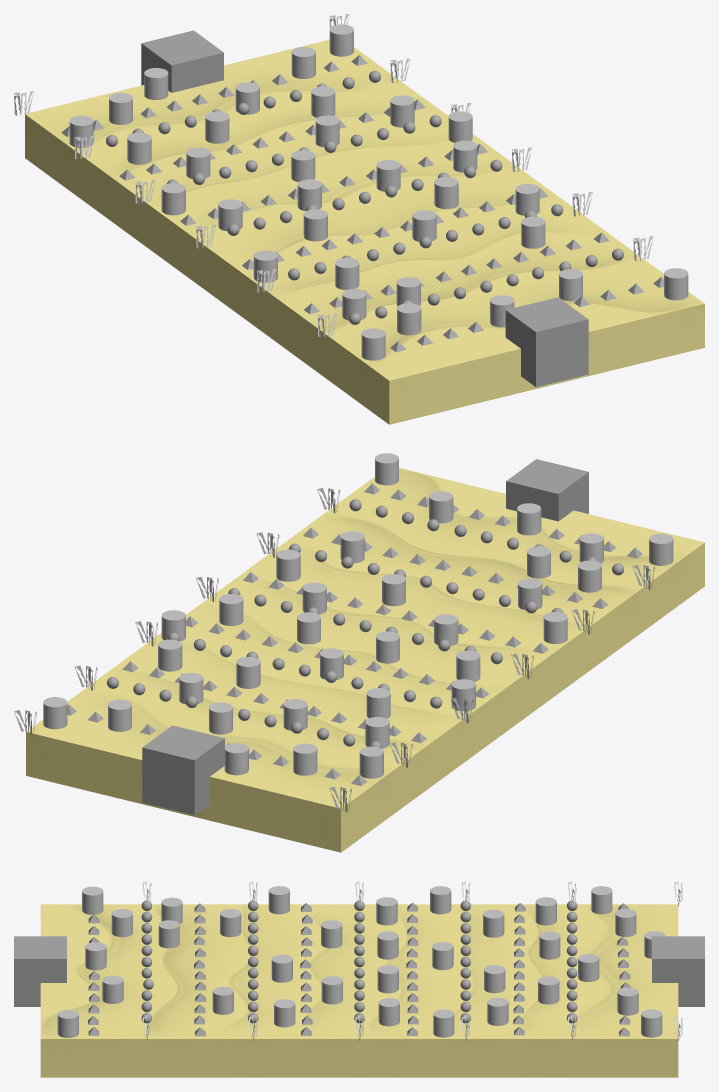
File: assets009_Streckenteil_gerade001.fbx
The picture shows the model from 3 angles, top to bottom: view 1: azimuth 30°, elevation 25°; view 2: azimuth 150°, elevation 25°; view 3: azimuth 270°, elevation 25°; orthographic projection. The views are drawn at different scales.
Visible parts, largest first — view 1: streckenteil_gerade_geo, b (×12), a (×11), startpoint, c (×7), endpoint, d (×2); view 2: streckenteil_gerade_geo, a (×12), b (×12), endpoint, c (×7), startpoint, d (×2); view 3: streckenteil_gerade_geo, b (×12), a (×12), c (×6), startpoint, endpoint, d (×2).
Part boxes in pixels (box(x1,y1,x2,y2)): streckenteil_gerade_geo: box(25, 39, 704, 424); b (×12): box(205, 47, 477, 335); a (×11): box(297, 160, 688, 360); startpoint: box(505, 297, 588, 387); c (×7): box(127, 24, 414, 215); endpoint: box(141, 30, 223, 92); d (×2): box(69, 92, 132, 147); streckenteil_gerade_geo: box(26, 468, 704, 852); a (×12): box(276, 453, 673, 663); b (×12): box(108, 533, 603, 734); endpoint: box(142, 725, 224, 815); c (×7): box(43, 639, 475, 775); startpoint: box(506, 459, 588, 521); d (×2): box(293, 743, 383, 778); streckenteil_gerade_geo: box(40, 904, 678, 1077); b (×12): box(111, 886, 638, 1037); a (×12): box(57, 886, 398, 1037); c (×6): box(430, 886, 662, 1037); startpoint: box(14, 936, 66, 1006); endpoint: box(652, 936, 704, 1006); d (×2): box(591, 886, 636, 936).
Bounding box in the file's own units: 32.03 × 6.5 × 65.
